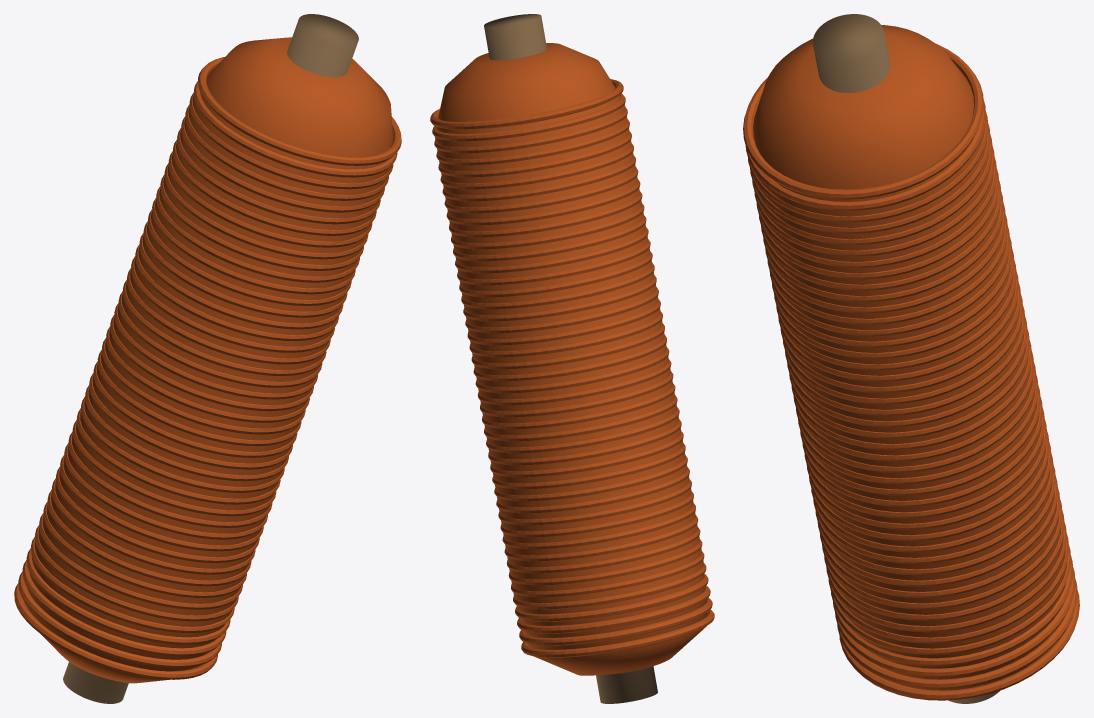
The picture shows the model from 3 angles, left to right: view 1: azimuth 30°, elevation 25°; view 2: azimuth 150°, elevation 25°; view 3: azimuth 270°, elevation 25°; orthographic projection. The views are drawn at different scales.
Parts seen in each view (by area): view 1: TI015 / thick combed angora yarn, TI015 / spool core, TI015 / wound yarn ridge.044, TI015 / wound yarn ridge, TI015 / wound yarn ridge.001, TI015 / wound yarn ridge.002, TI015 / wound yarn ridge.043, TI015 / wound yarn ridge.003, TI015 / wound yarn ridge.004, TI015 / wound yarn ridge.009, TI015 / wound yarn ridge.018, TI015 / wound yarn ridge.015 (+35 smaller); view 2: TI015 / thick combed angora yarn, TI015 / spool core, TI015 / wound yarn ridge.044, TI015 / wound yarn ridge, TI015 / wound yarn ridge.001, TI015 / wound yarn ridge.002, TI015 / wound yarn ridge.043, TI015 / wound yarn ridge.003, TI015 / wound yarn ridge.004, TI015 / wound yarn ridge.015, TI015 / wound yarn ridge.016, TI015 / wound yarn ridge.011 (+35 smaller); view 3: TI015 / thick combed angora yarn, TI015 / spool core, TI015 / wound yarn ridge.044, TI015 / wound yarn ridge, TI015 / wound yarn ridge.001, TI015 / wound yarn ridge.002, TI015 / wound yarn ridge.043, TI015 / wound yarn ridge.003, TI015 / wound yarn ridge.004, TI015 / wound yarn ridge.013, TI015 / wound yarn ridge.006, TI015 / wound yarn ridge.008 (+35 smaller).
Part boxes in pixels (x1,y1,x2,y2): TI015 / thick combed angora yarn: [24, 37, 393, 683]; TI015 / spool core: [63, 14, 358, 703]; TI015 / wound yarn ridge.044: [198, 57, 401, 165]; TI015 / wound yarn ridge: [14, 583, 217, 679]; TI015 / wound yarn ridge.001: [18, 571, 221, 668]; TI015 / wound yarn ridge.002: [22, 559, 226, 656]; TI015 / wound yarn ridge.043: [194, 81, 397, 177]; TI015 / wound yarn ridge.003: [26, 548, 230, 644]; TI015 / wound yarn ridge.004: [31, 536, 234, 632]; TI015 / wound yarn ridge.009: [52, 478, 255, 574]; TI015 / wound yarn ridge.018: [89, 373, 292, 469]; TI015 / wound yarn ridge.015: [77, 408, 280, 504]; TI015 / thick combed angora yarn: [435, 43, 706, 675]; TI015 / spool core: [484, 14, 657, 703]; TI015 / wound yarn ridge.044: [430, 79, 623, 129]; TI015 / wound yarn ridge: [521, 609, 714, 657]; TI015 / wound yarn ridge.001: [519, 597, 712, 645]; TI015 / wound yarn ridge.002: [517, 585, 710, 633]; TI015 / wound yarn ridge.043: [432, 93, 625, 141]; TI015 / wound yarn ridge.003: [515, 574, 708, 621]; TI015 / wound yarn ridge.004: [513, 563, 706, 609]; TI015 / wound yarn ridge.015: [490, 431, 683, 477]; TI015 / wound yarn ridge.016: [488, 419, 681, 465]; TI015 / wound yarn ridge.011: [498, 479, 691, 525]; TI015 / thick combed angora yarn: [751, 25, 1067, 690]; TI015 / spool core: [812, 14, 999, 703]; TI015 / wound yarn ridge.044: [743, 44, 983, 199]; TI015 / wound yarn ridge: [839, 591, 1079, 700]; TI015 / wound yarn ridge.001: [837, 579, 1077, 689]; TI015 / wound yarn ridge.002: [835, 567, 1075, 677]; TI015 / wound yarn ridge.043: [745, 100, 986, 210]; TI015 / wound yarn ridge.003: [833, 556, 1073, 666]; TI015 / wound yarn ridge.004: [830, 544, 1071, 654]; TI015 / wound yarn ridge.013: [811, 441, 1051, 552]; TI015 / wound yarn ridge.006: [826, 522, 1066, 632]; TI015 / wound yarn ridge.008: [822, 499, 1062, 609].
Bounding box in the file's own units: 1.51 × 3.03 × 1.21.
